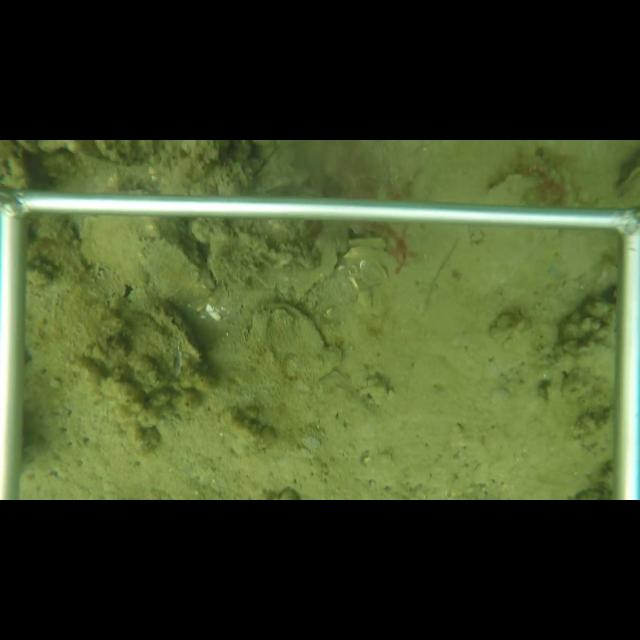Oyster-Closed: (236, 298, 343, 390), (145, 298, 210, 372)
